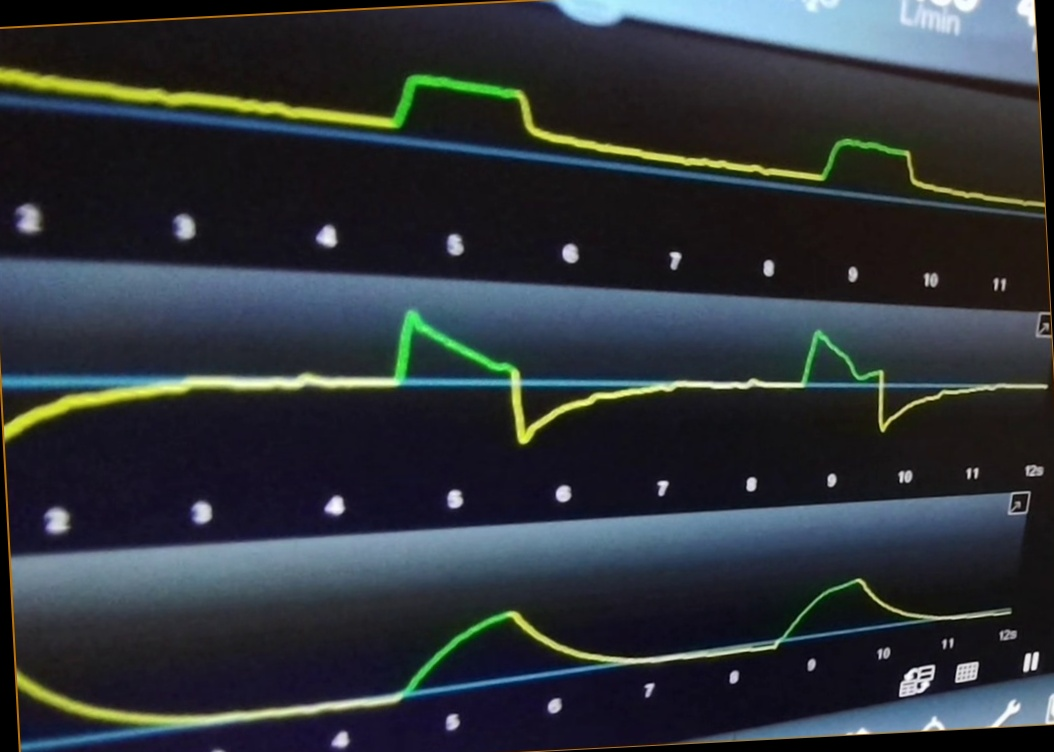Double_Triggering Flow: (33, 307, 1034, 456)
Double_Triggering Volume: (45, 576, 1013, 728)
